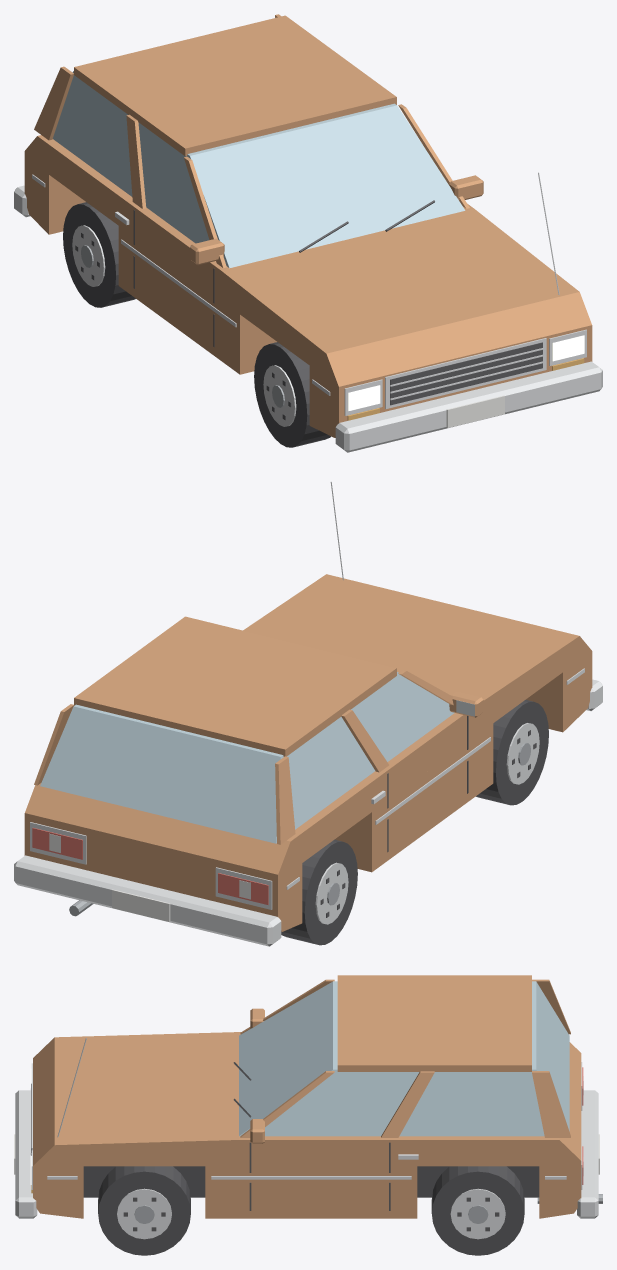
File: car_hatch_o.glb
3 views of the same model, one above another, from view 1: azimuth 30°, elevation 25°; view 2: azimuth 150°, elevation 25°; view 3: azimuth 270°, elevation 25° (orthographic). The views are drawn at different scales.
Parts seen in each view (by area): view 1: car_hatch_o_car_o, car_hatch_o_glass, car_hatch_o_chrome, car_hatch_o_rubber, car_hatch_o_dark, car_hatch_o_lamp_glass, car_hatch_o_paint_w; view 2: car_hatch_o_car_o, car_hatch_o_glass, car_hatch_o_chrome, car_hatch_o_rubber, car_hatch_o_neon_r, car_hatch_o_paint_w, car_hatch_o_steel; view 3: car_hatch_o_car_o, car_hatch_o_glass, car_hatch_o_rubber, car_hatch_o_chrome, car_hatch_o_dark, car_hatch_o_steel.
Part boxes in pixels (left/top/right/bottom): car_hatch_o_car_o: left=24, top=14, right=592, bottom=437; car_hatch_o_glass: left=53, top=71, right=465, bottom=268; car_hatch_o_chrome: left=14, top=172, right=602, bottom=452; car_hatch_o_rubber: left=63, top=202, right=330, bottom=447; car_hatch_o_dark: left=75, top=200, right=542, bottom=420; car_hatch_o_lamp_glass: left=348, top=335, right=584, bottom=410; car_hatch_o_paint_w: left=446, top=395, right=504, bottom=427; car_hatch_o_car_o: left=24, top=574, right=592, bottom=931; car_hatch_o_glass: left=40, top=672, right=454, bottom=843; car_hatch_o_chrome: left=14, top=481, right=602, bottom=946; car_hatch_o_rubber: left=281, top=699, right=548, bottom=945; car_hatch_o_neon_r: left=32, top=828, right=268, bottom=904; car_hatch_o_paint_w: left=49, top=833, right=250, bottom=921; car_hatch_o_steel: left=69, top=742, right=530, bottom=916; car_hatch_o_car_o: left=33, top=975, right=581, bottom=1218; car_hatch_o_glass: left=239, top=981, right=569, bottom=1136; car_hatch_o_rubber: left=83, top=1166, right=539, bottom=1255; car_hatch_o_chrome: left=15, top=1038, right=598, bottom=1239; car_hatch_o_dark: left=31, top=1062, right=499, bottom=1231; car_hatch_o_steel: left=134, top=1194, right=602, bottom=1223.
Size of the model in its own units: 2 by 1.6 by 4.06.
